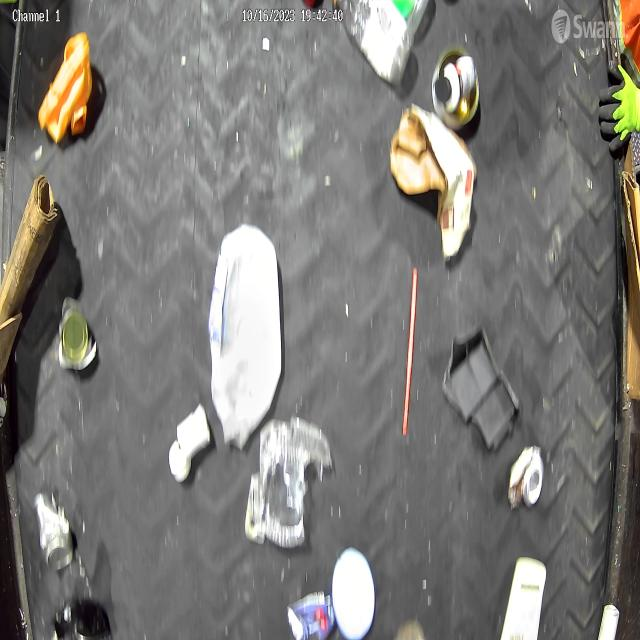can: (431, 46, 481, 128), (32, 490, 74, 572), (58, 295, 95, 368), (507, 444, 545, 508)
milk_jug: (208, 224, 283, 452)
non_white_jug: (37, 31, 93, 146)
